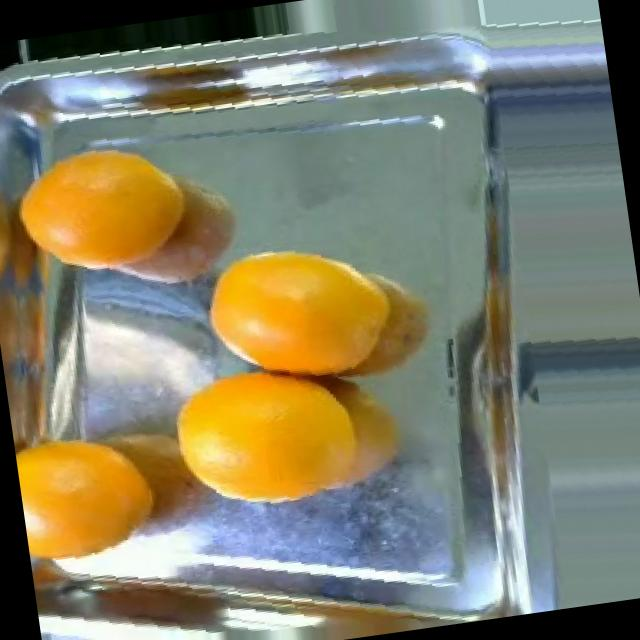Fruit: (0, 118, 226, 309), (144, 340, 374, 518), (182, 220, 402, 394)
